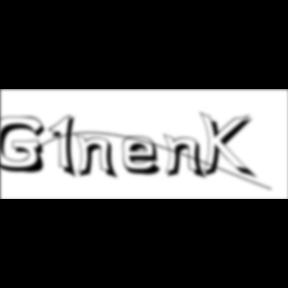1: (48, 114, 82, 182)
G: (0, 116, 52, 176)
K: (199, 110, 258, 182)
e: (123, 135, 169, 178)
n: (76, 132, 122, 181), (164, 132, 210, 181)
